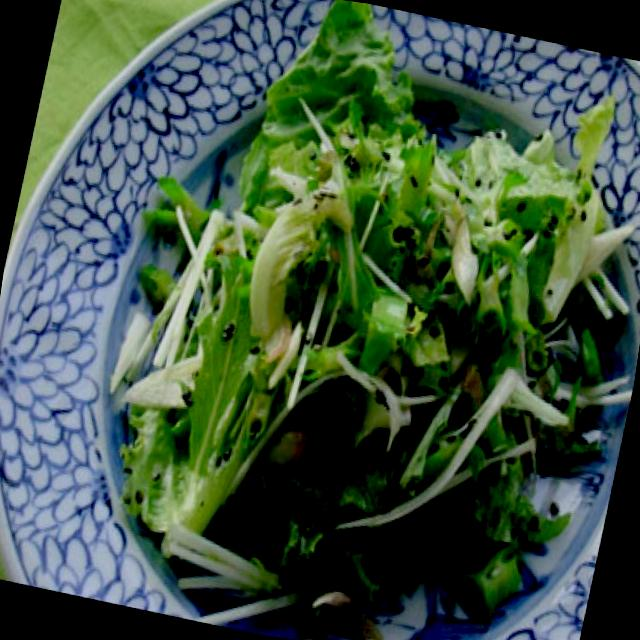Green Salad: (92, 38, 640, 640)
